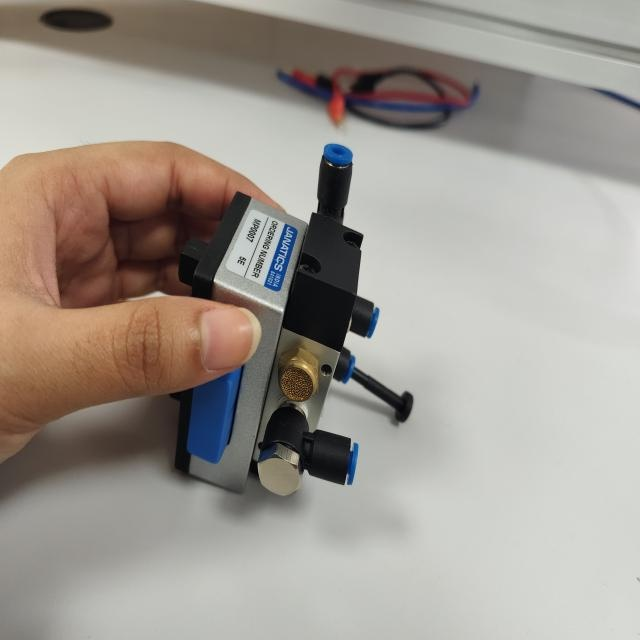5by2 DCV: (168, 123, 422, 508)
